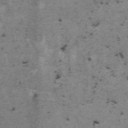oxide scale of temperature system: (56, 20, 128, 115), (66, 117, 99, 128), (19, 82, 38, 100), (100, 0, 120, 5), (11, 107, 16, 112), (22, 60, 28, 64), (2, 32, 6, 36), (59, 18, 62, 22)
